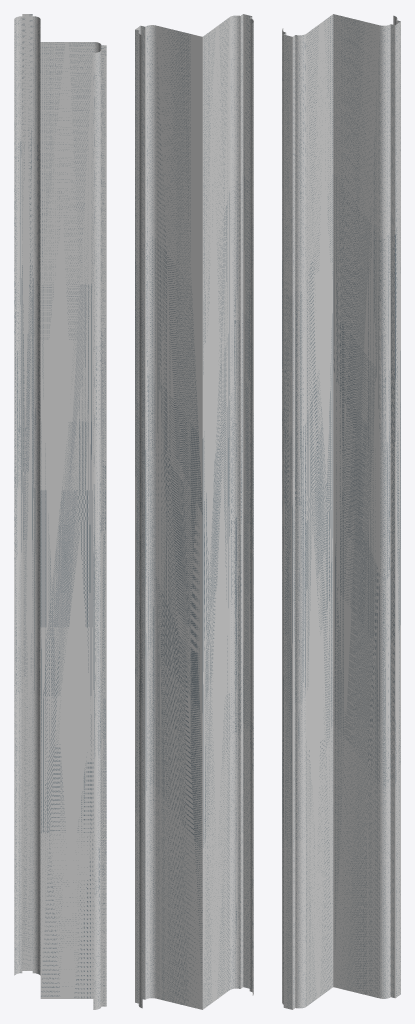
The model's file is PW_CornerFixElem_os_T1_035x035x010x400.dae.
The picture shows the model from 3 angles, left to right: view 1: azimuth 90°, elevation 25°; view 2: azimuth 150°, elevation 25°; view 3: azimuth 330°, elevation 25°; orthographic projection.
Parts seen in each view (by area): view 1: group_0; view 2: group_0; view 3: group_0.
Boxes of the visible parts, <box> form: group_0: <box>14,14,106,1009</box>; group_0: <box>135,14,253,1009</box>; group_0: <box>282,14,400,1009</box>.
Bounding box in the file's own units: 13.78 × 13.78 × 157.
